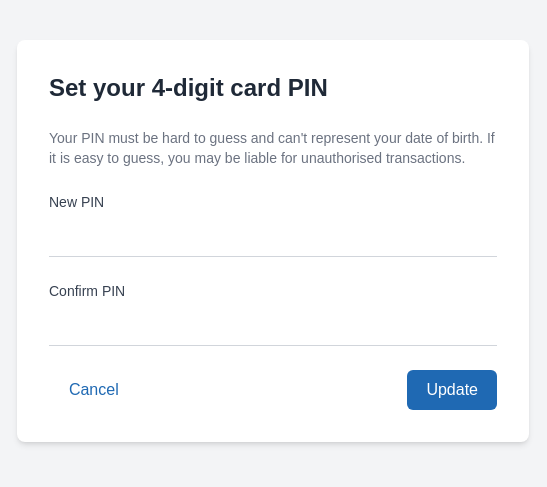
Scenario: CardFormComponent › displays error when PINs do not match
The width and height of the screenshot is (547, 487).
Type "1234" into the password field labelled "New PIN".
click(273, 236); type("1234")  # box [49,216,497,257]
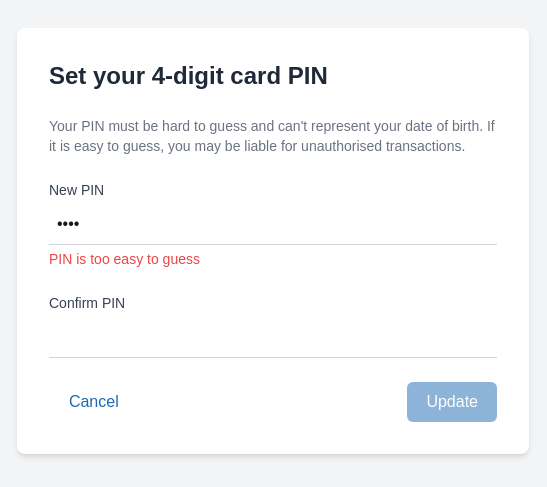
Type "5678" into the password field labelled "Confirm PIN".
click(273, 338); type("5678")  # box [49,317,497,358]
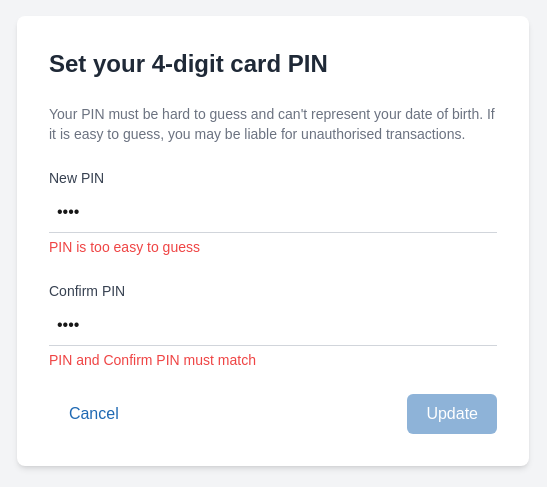
Result: the text "PIN and Confirm PIN must match" is shown at [49,352,256,368]
